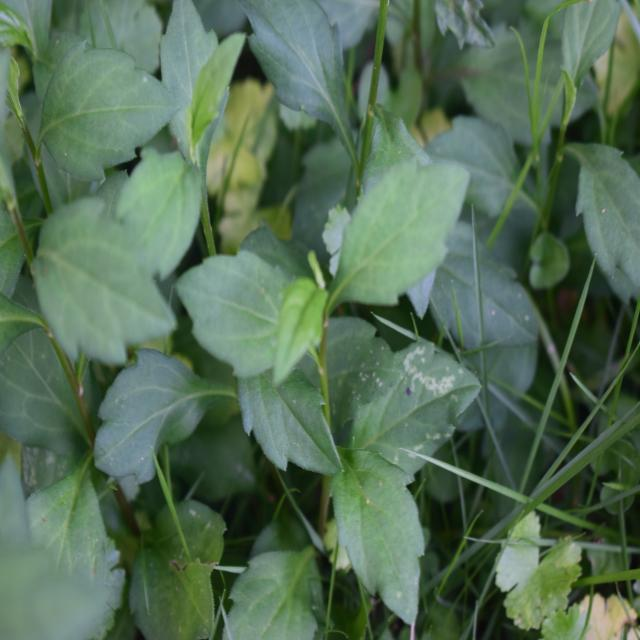Indian aster: (199, 131, 446, 588), (0, 11, 209, 463)
